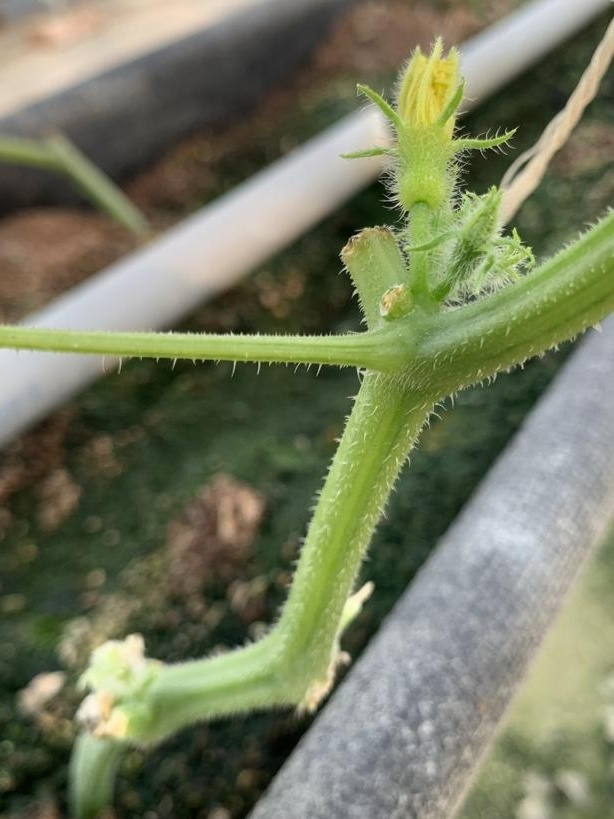bud: (362, 42, 486, 223)
